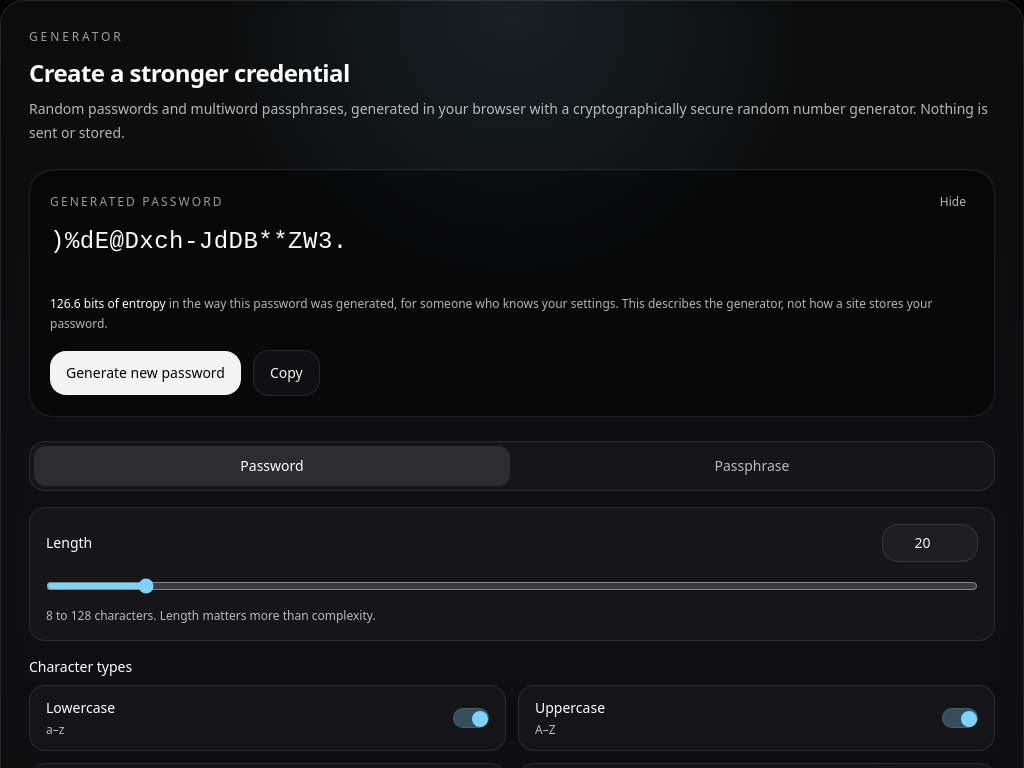
Test: PasswordGenerator: configuration › rejects the length  with an alert
Step 1. Clear the number field labelled "Length" → (930, 543), box [882, 524, 978, 562]
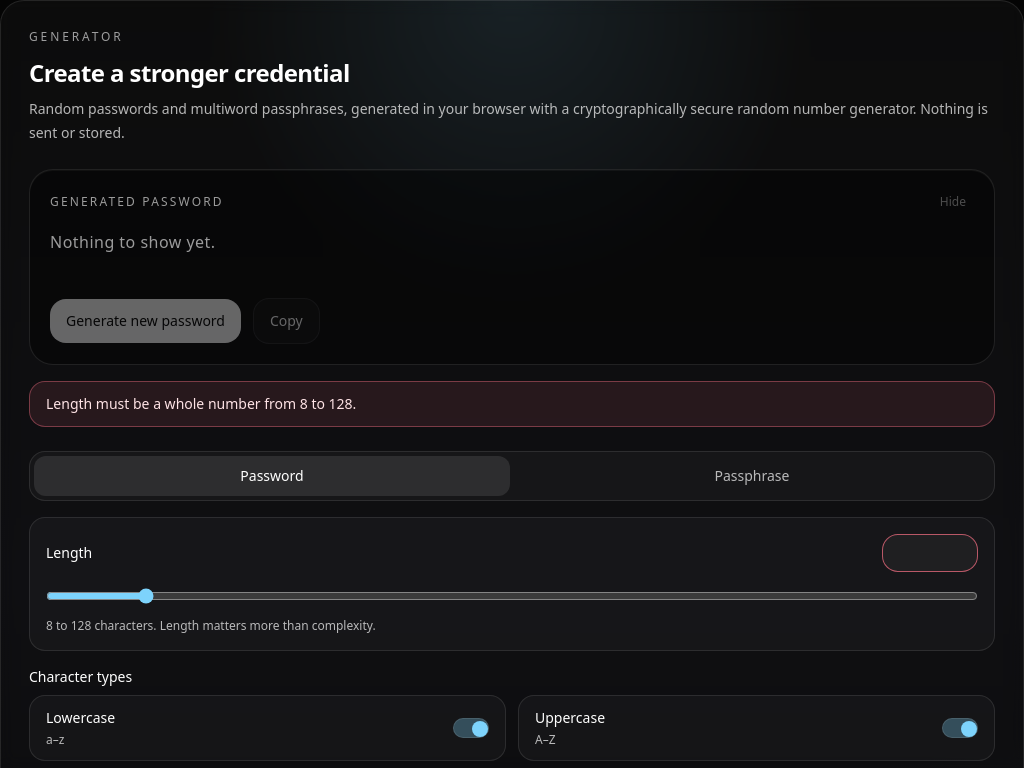
Now the message shows "Length must be", box [46, 394, 356, 413]
Now the element labelled "Nothing to show yet." is shown, box [50, 231, 216, 253]
